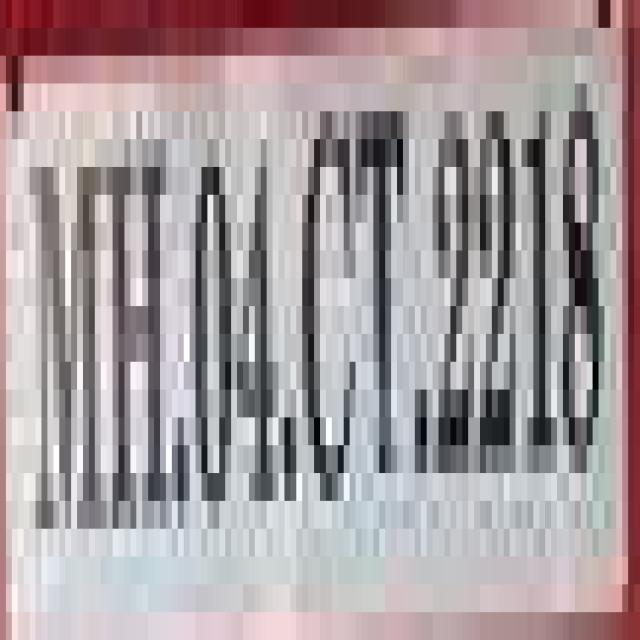license_plate: (6, 28, 604, 640)
